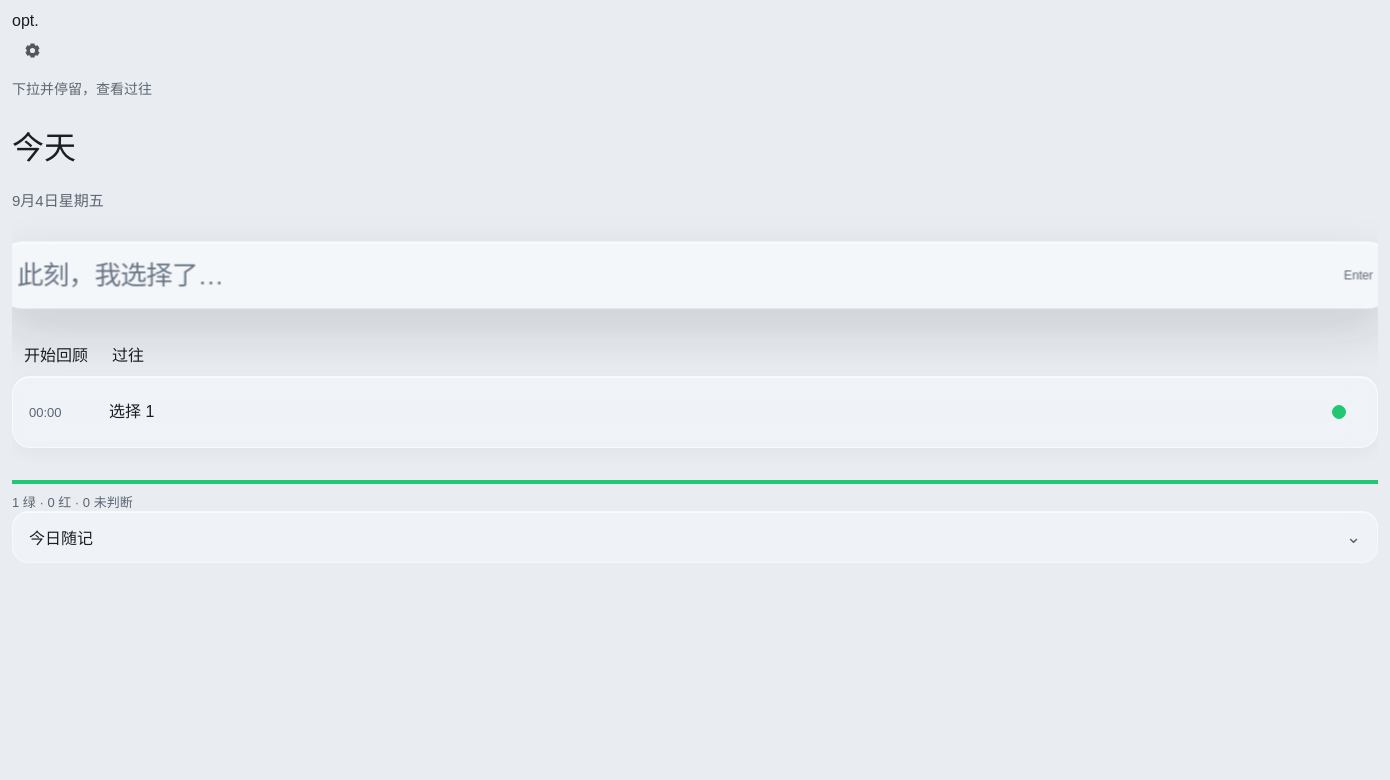
Test case: TodayPage › does not start a row long-press from the status button
Press the mouse on the button named "状态：绿色" at (1339, 412), box [1317, 390, 1361, 434]
Click the button named "状态：绿色" at (1339, 412), box [1317, 390, 1361, 434]
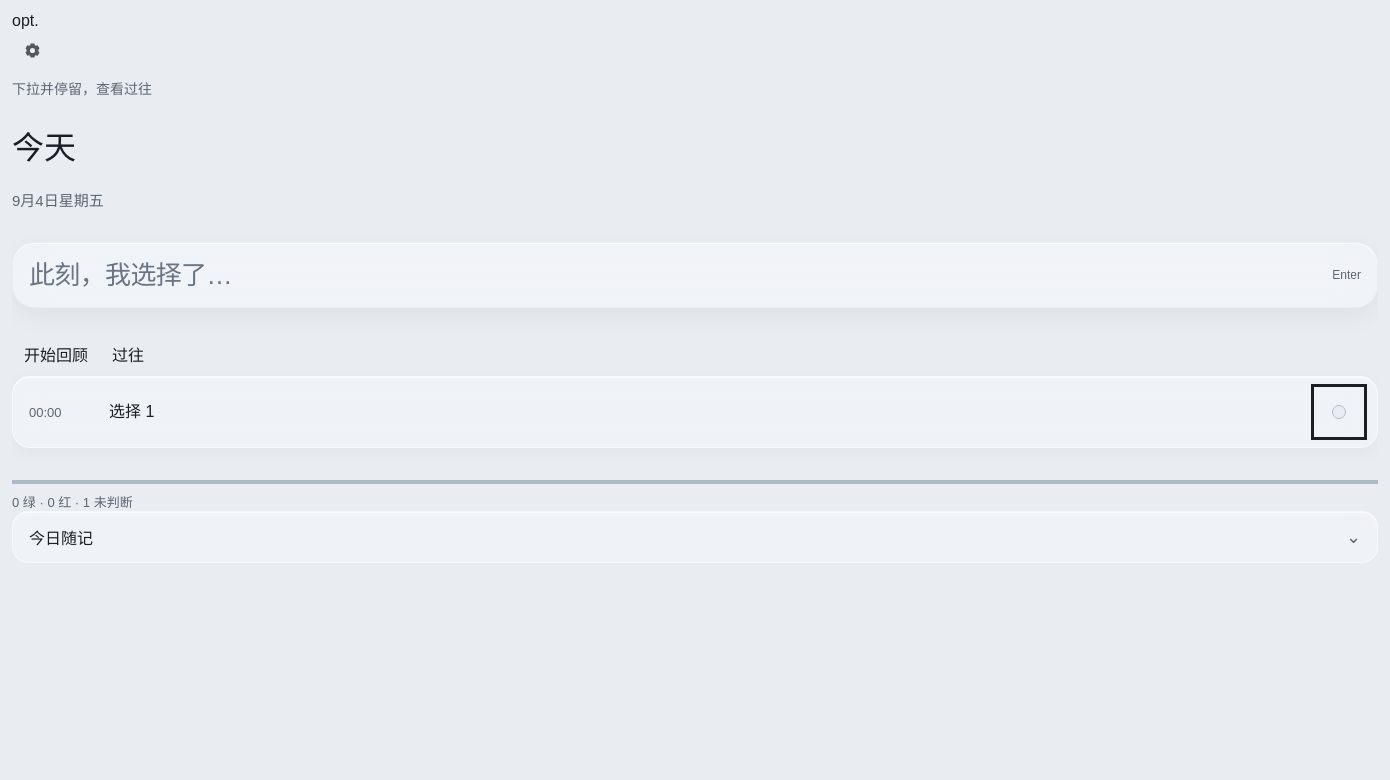
Result: the button named "状态：未判断" is shown at [1317, 390, 1361, 434]
